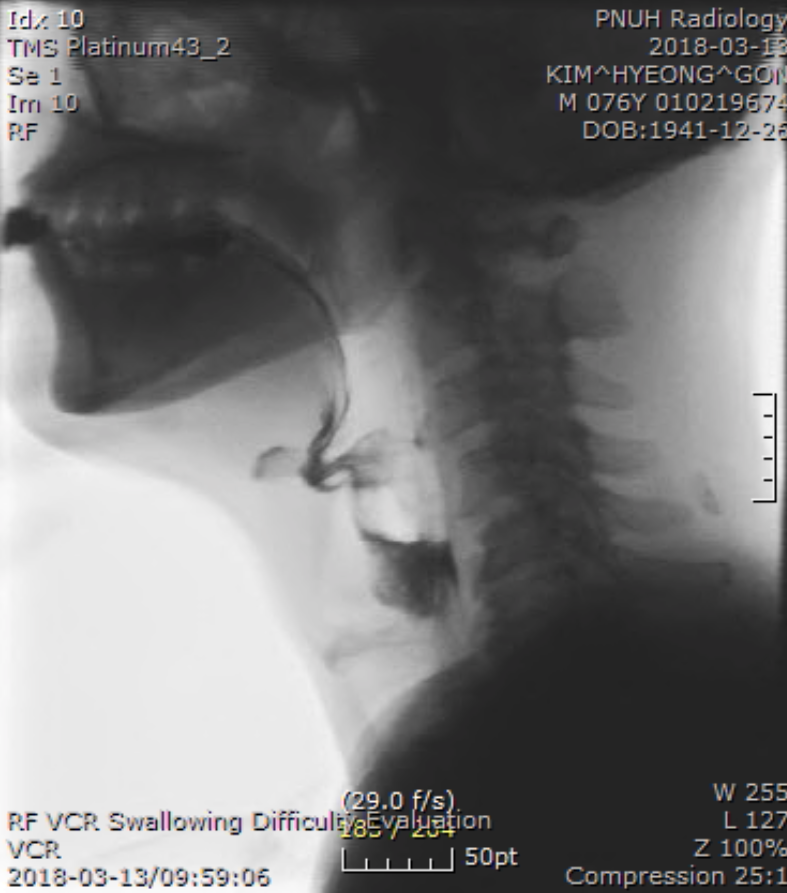dros: (351, 500, 445, 634)
food: (263, 381, 483, 632)
uros: (277, 404, 394, 510)
